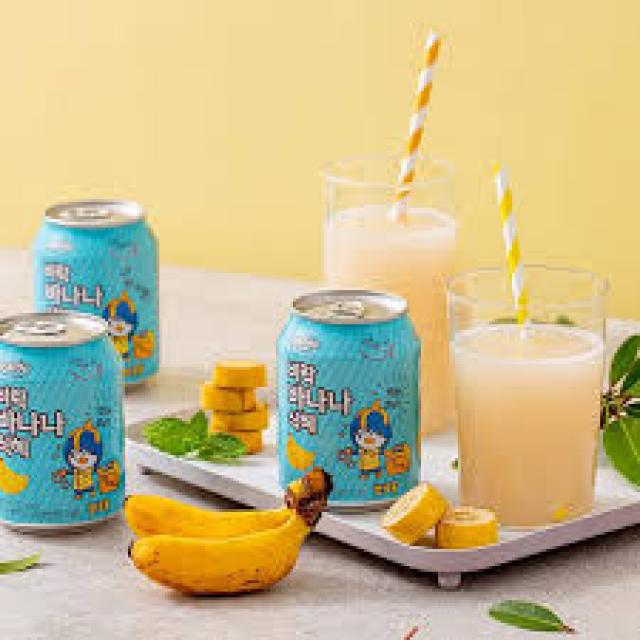Cans: (270, 284, 427, 503), (3, 304, 131, 538), (40, 194, 170, 378)
